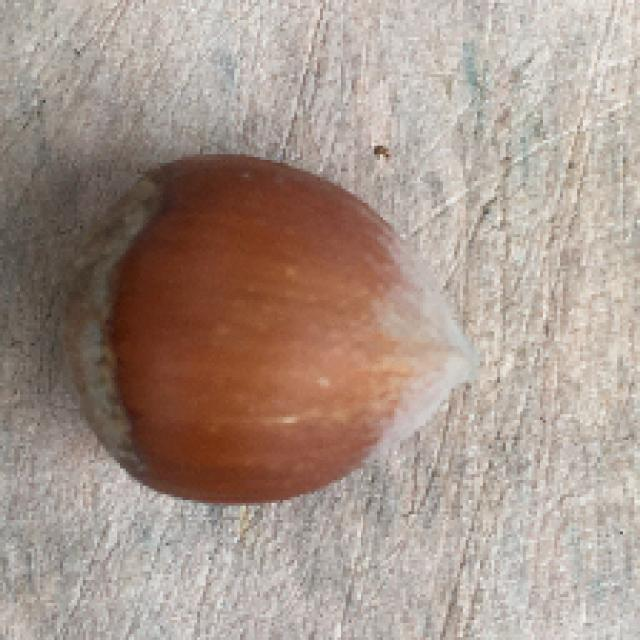hazelnut: (57, 153, 481, 499)
